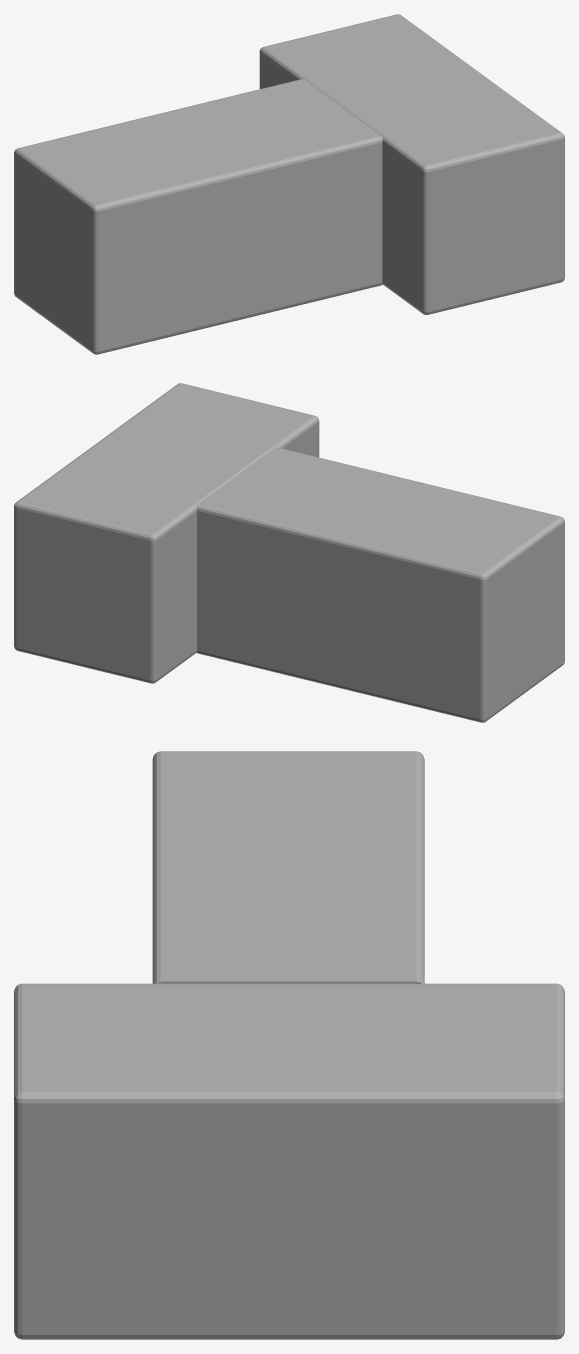
The model's file is AirVentShaft-T.fbx.
3 renders of one model, top to bottom at view 1: azimuth 30°, elevation 25°; view 2: azimuth 150°, elevation 25°; view 3: azimuth 270°, elevation 25°, orthographic. The views are drawn at different scales.
Visible parts, largest first — view 1: Cube.005; view 2: Cube.005; view 3: Cube.005.
Part boxes in pixels (bbox=[...]): Cube.005: bbox=[14, 14, 564, 354]; Cube.005: bbox=[14, 383, 564, 722]; Cube.005: bbox=[14, 751, 564, 1339].
Bounding box in the file's own units: 400 × 132 × 268.
1 material, 1 textured.
